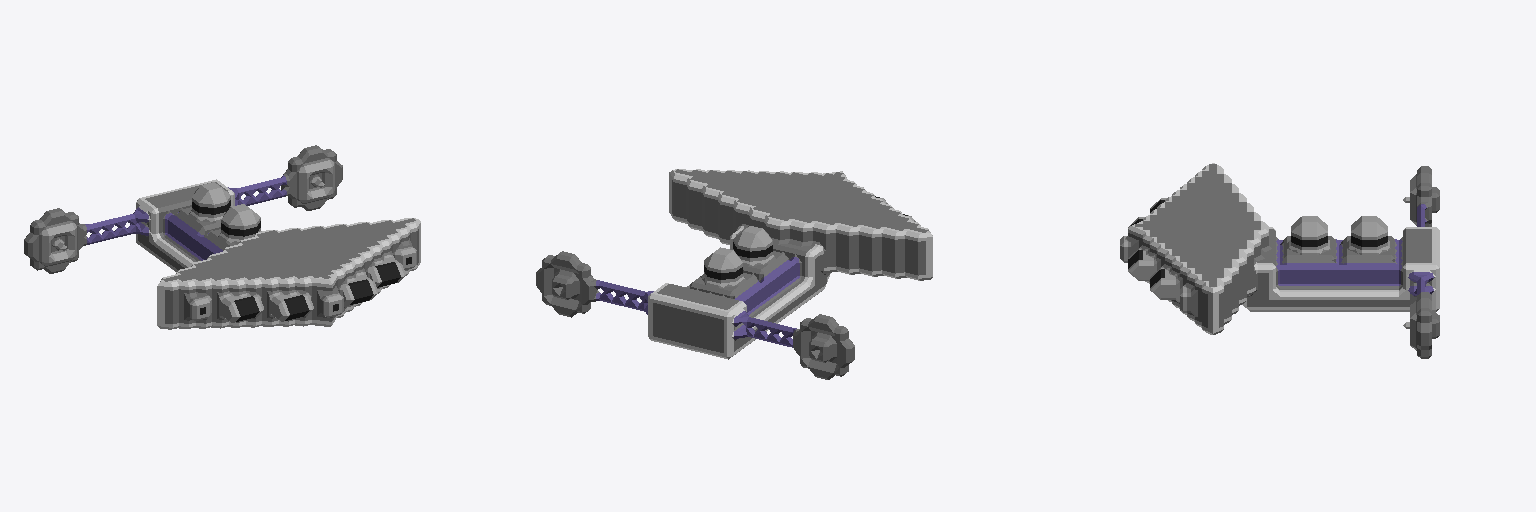
3 renders of one model, left to right at view 1: azimuth 30°, elevation 25°; view 2: azimuth 150°, elevation 25°; view 3: azimuth 270°, elevation 25°, orthographic.
Size of the model in its own units: 49 by 11 by 43.
Materials: 1 (1 with a texture image).